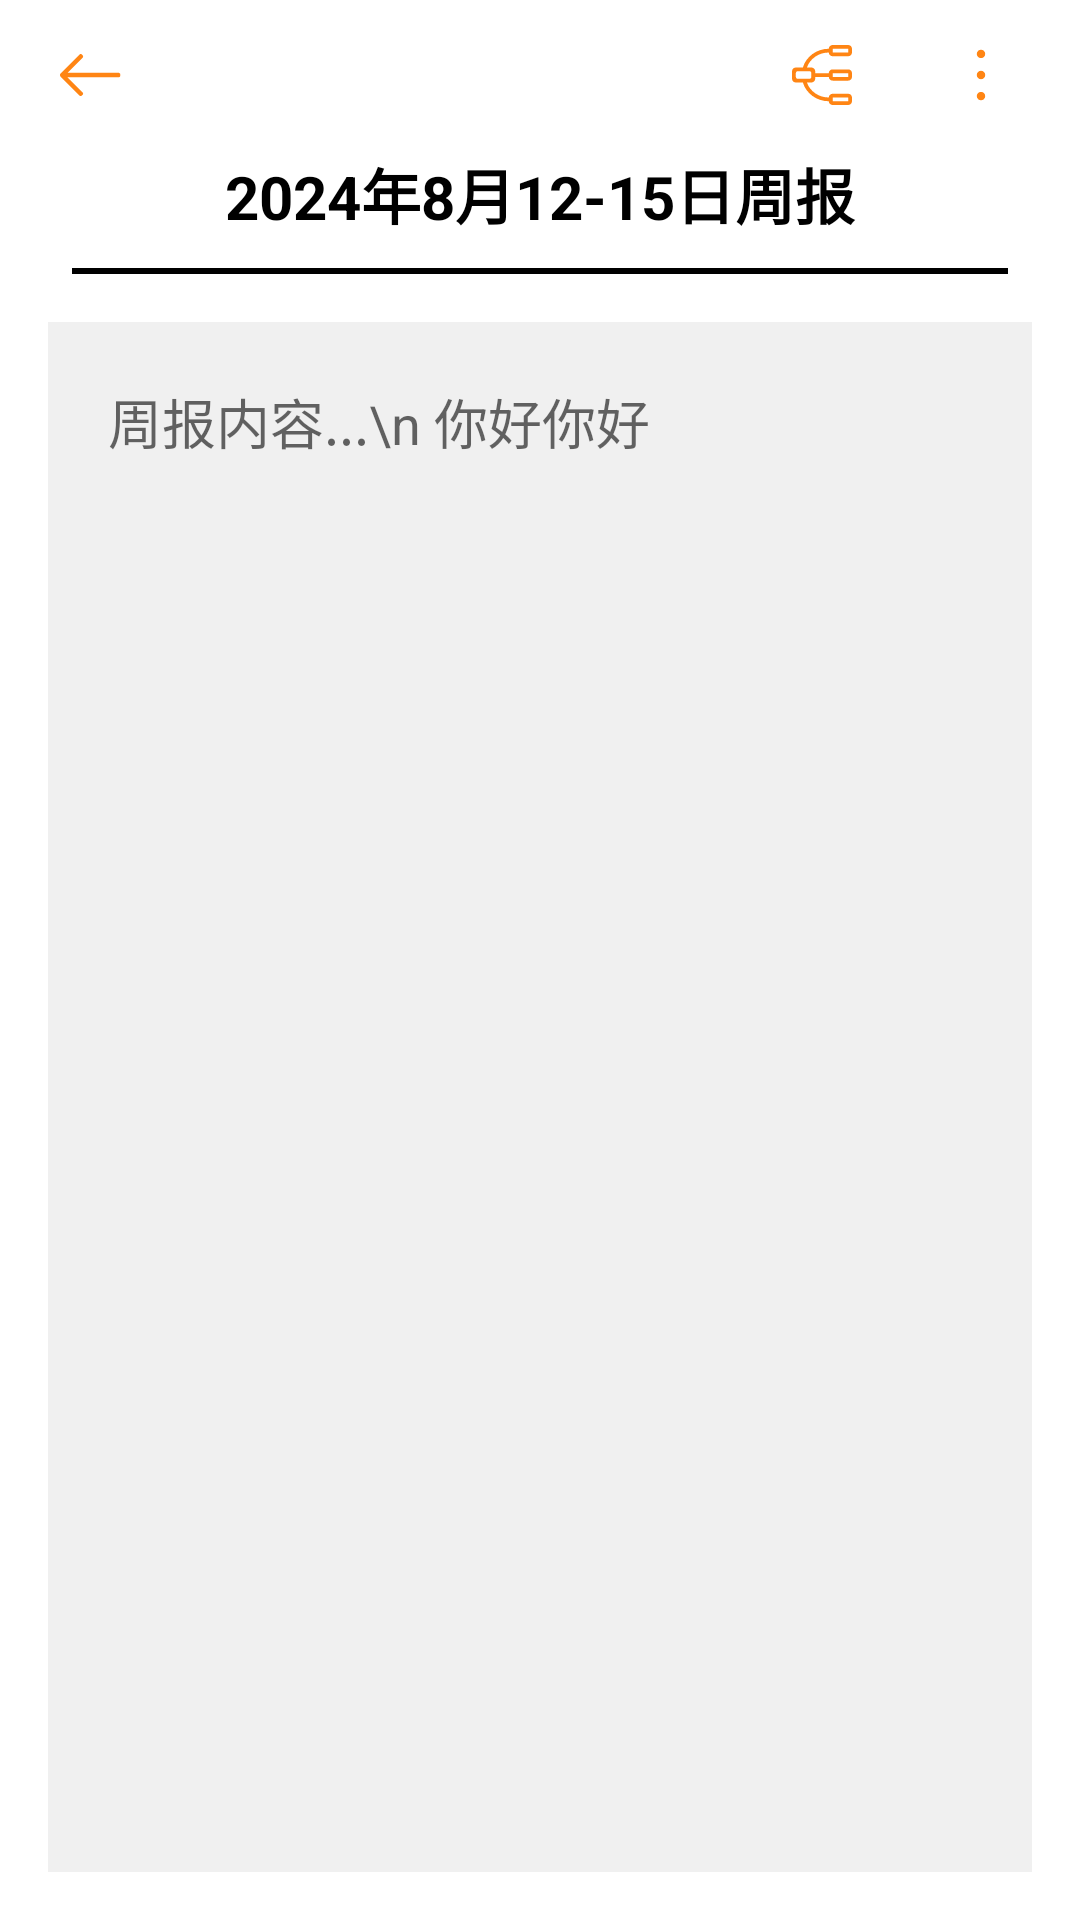

Point at icon controls on the screen. Image size 1080*1920, points as point (x, y).
back: point (90, 75)
jump mind: point (822, 75)
more: point (981, 75)
